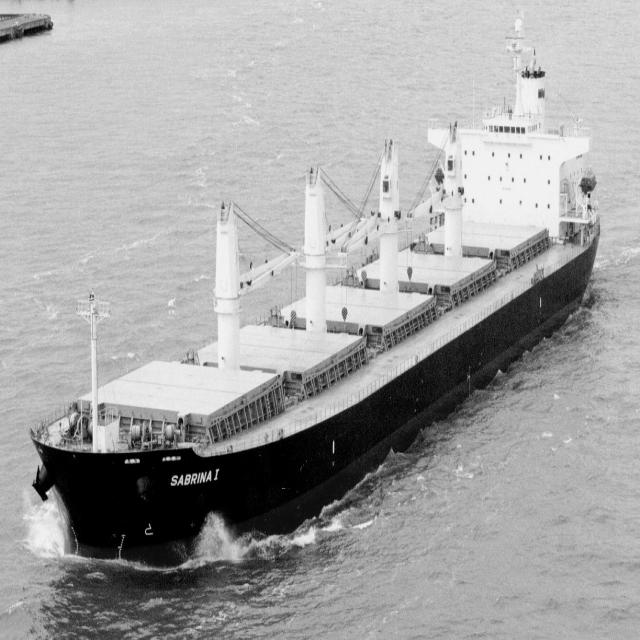Bulk-Carrier: (29, 38, 607, 578)
